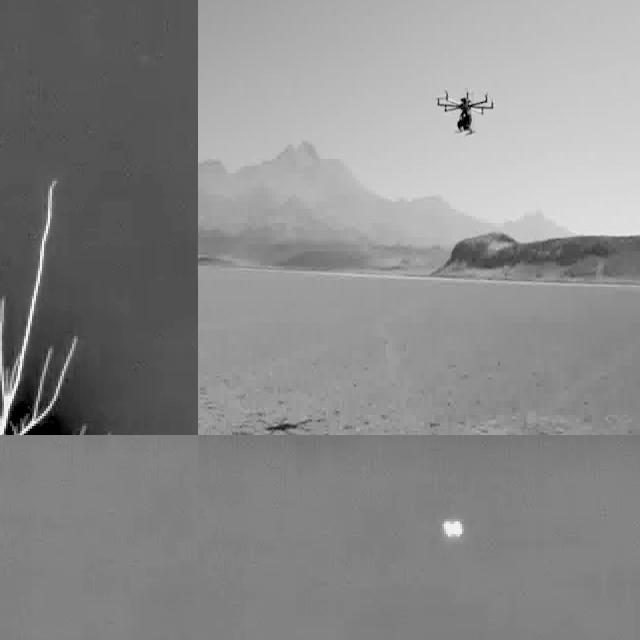1: (437, 517, 473, 549)
drone: (436, 83, 496, 139)
